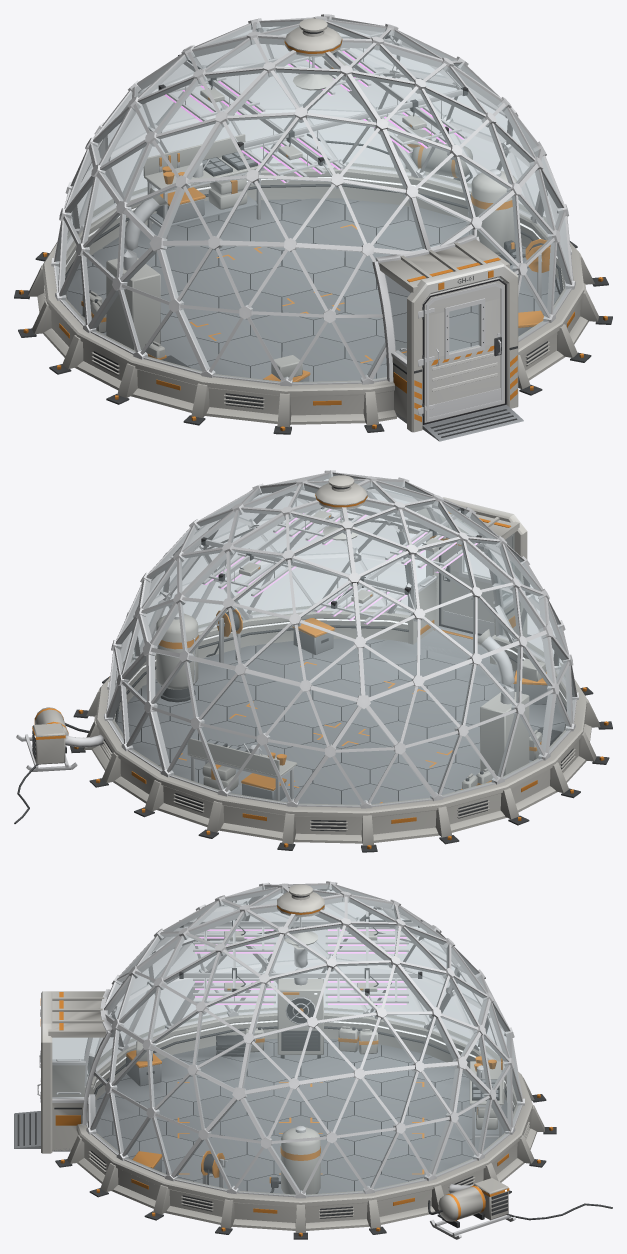
Rendered from greenhouse.glb.
3 views of the same model, one above another, from view 1: azimuth 30°, elevation 25°; view 2: azimuth 150°, elevation 25°; view 3: azimuth 270°, elevation 25° (orthographic). The views are drawn at different scales.
Parts seen in each view (by area): view 1: greenhouse_mesh, door_leaf_mesh; view 2: greenhouse_mesh, door_leaf_mesh; view 3: greenhouse_mesh.
Part boxes in pixels (x1,y1,x2,y2): greenhouse_mesh: [14, 14, 612, 441]; door_leaf_mesh: [422, 277, 506, 424]; greenhouse_mesh: [14, 470, 612, 852]; door_leaf_mesh: [439, 535, 512, 636]; greenhouse_mesh: [14, 881, 612, 1239].
Bounding box in the file's own units: 9.34 × 4.93 × 10.82.
